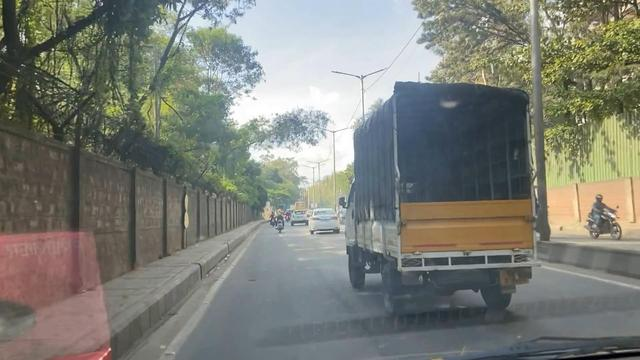HMV: (344, 63, 549, 324)
